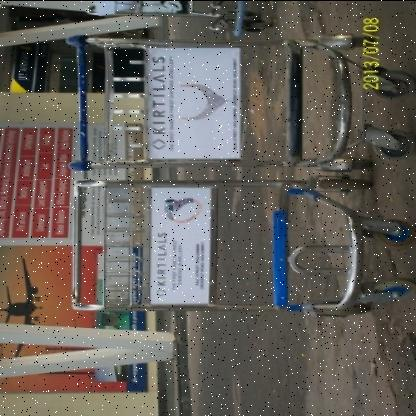airport-trolley: (56, 171, 416, 329), (62, 29, 416, 173)
